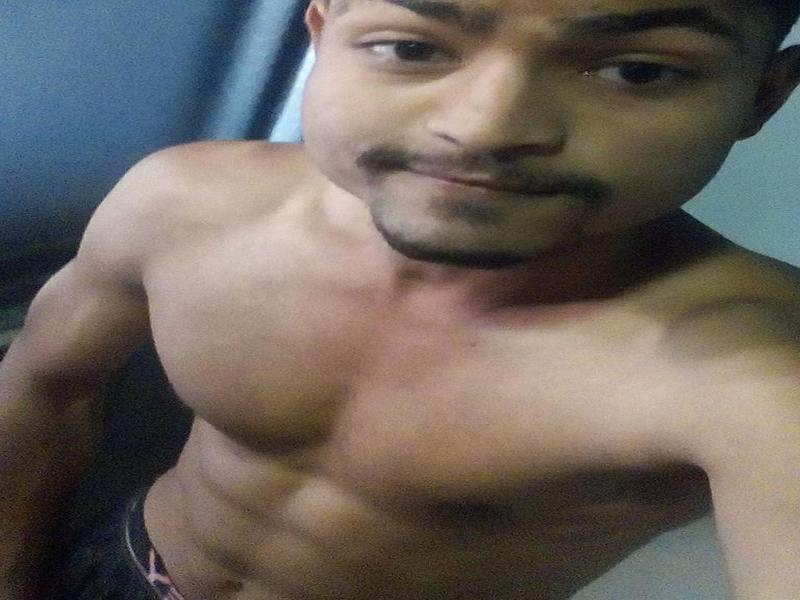without_mask: (302, 1, 763, 268)
